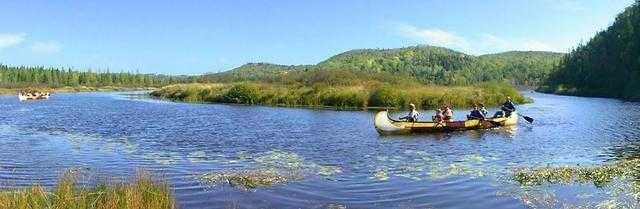kayak: (376, 104, 524, 132), (18, 90, 50, 101)
